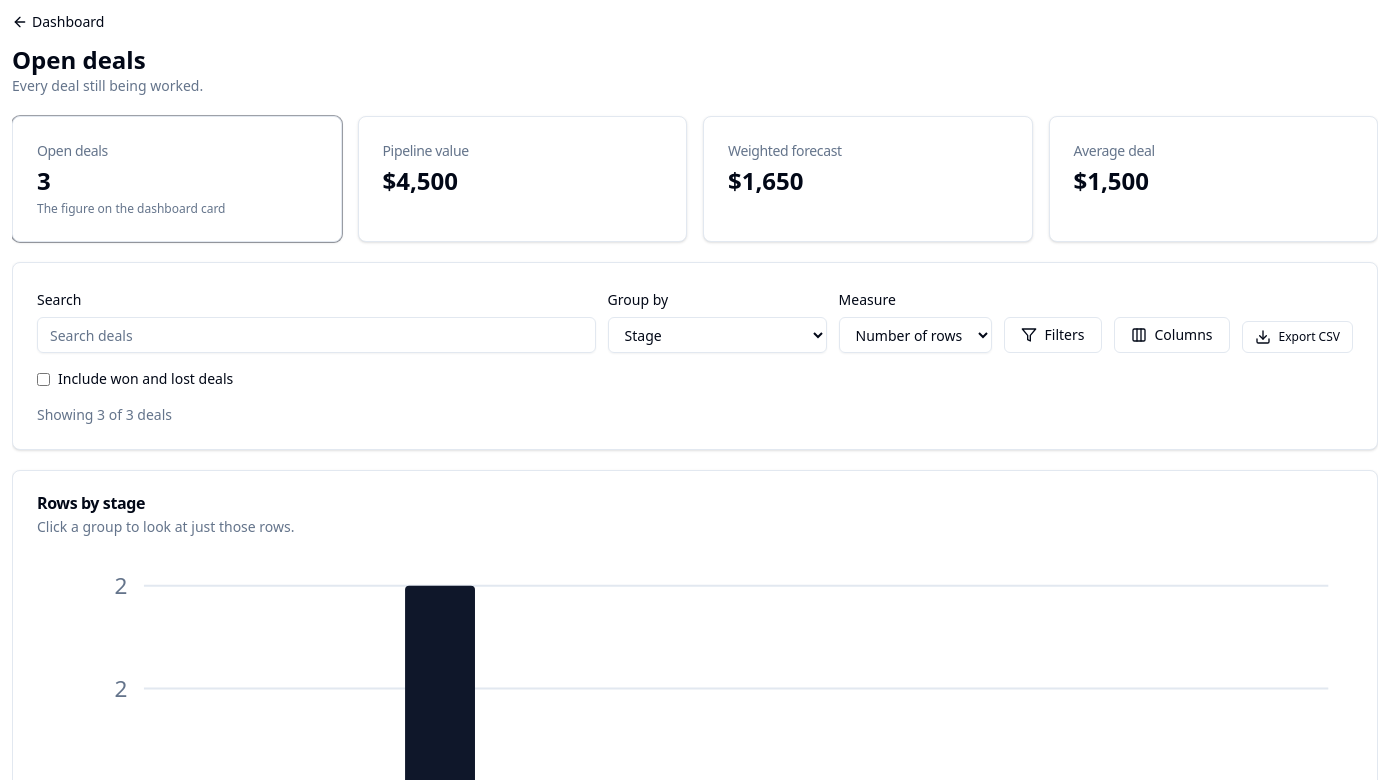
Analyse: open deals › says which figure is the dashboard card, and notices when filters change it
Expected: the text "The figure on the dashboard card" is shown, [37,200,226,217]
Type "alpha" into the search field labelled "Search".
click(316, 335); type("alpha")  # box [37,317,596,353]
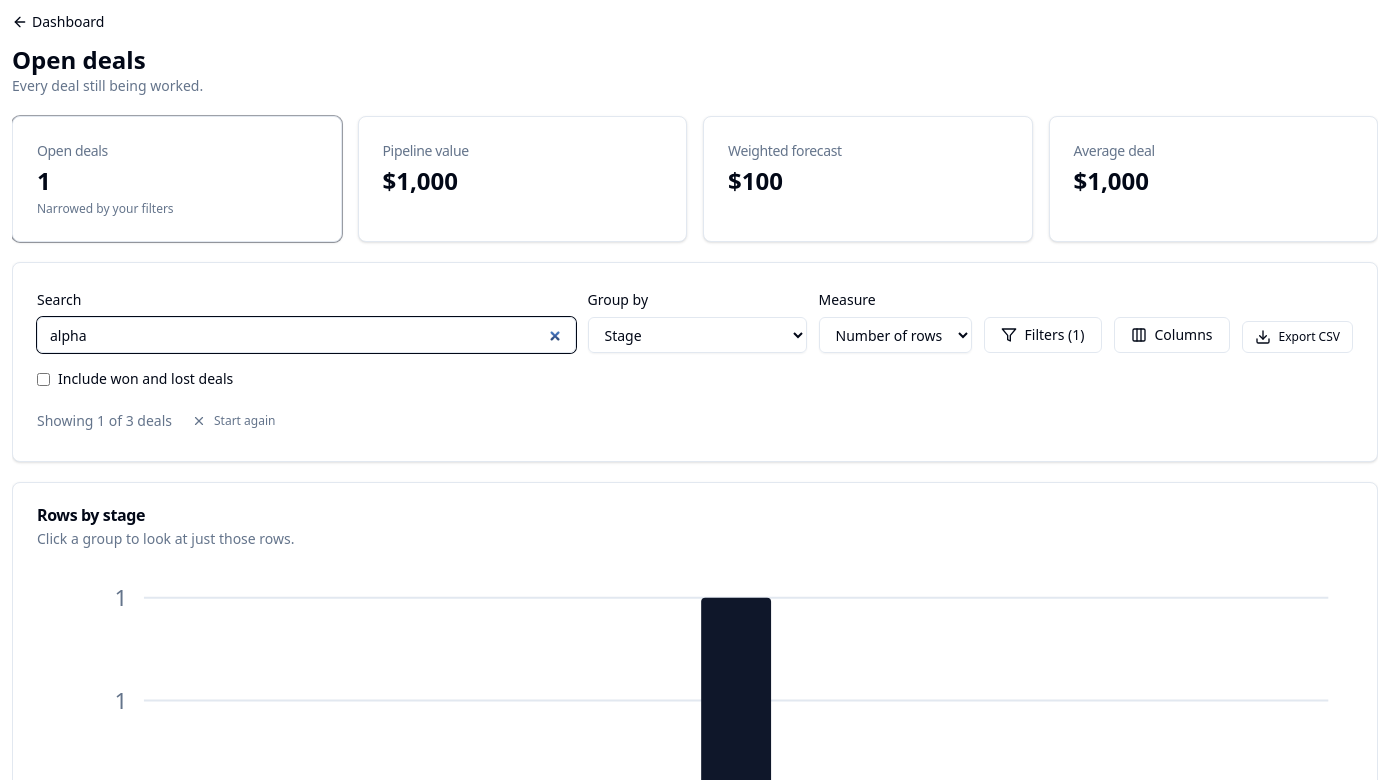
Expected: the text "Narrowed by your filters" is shown, [37,200,174,217]
